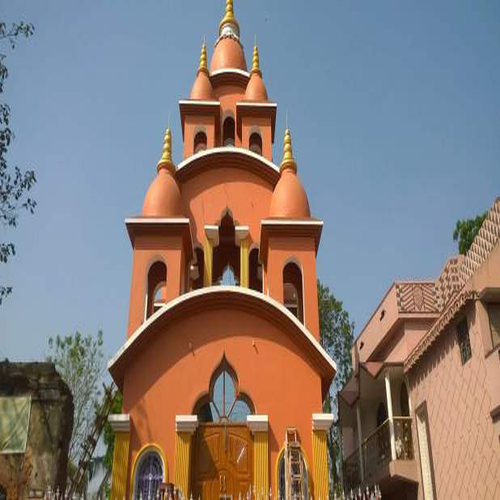Temple: (109, 10, 342, 482)
